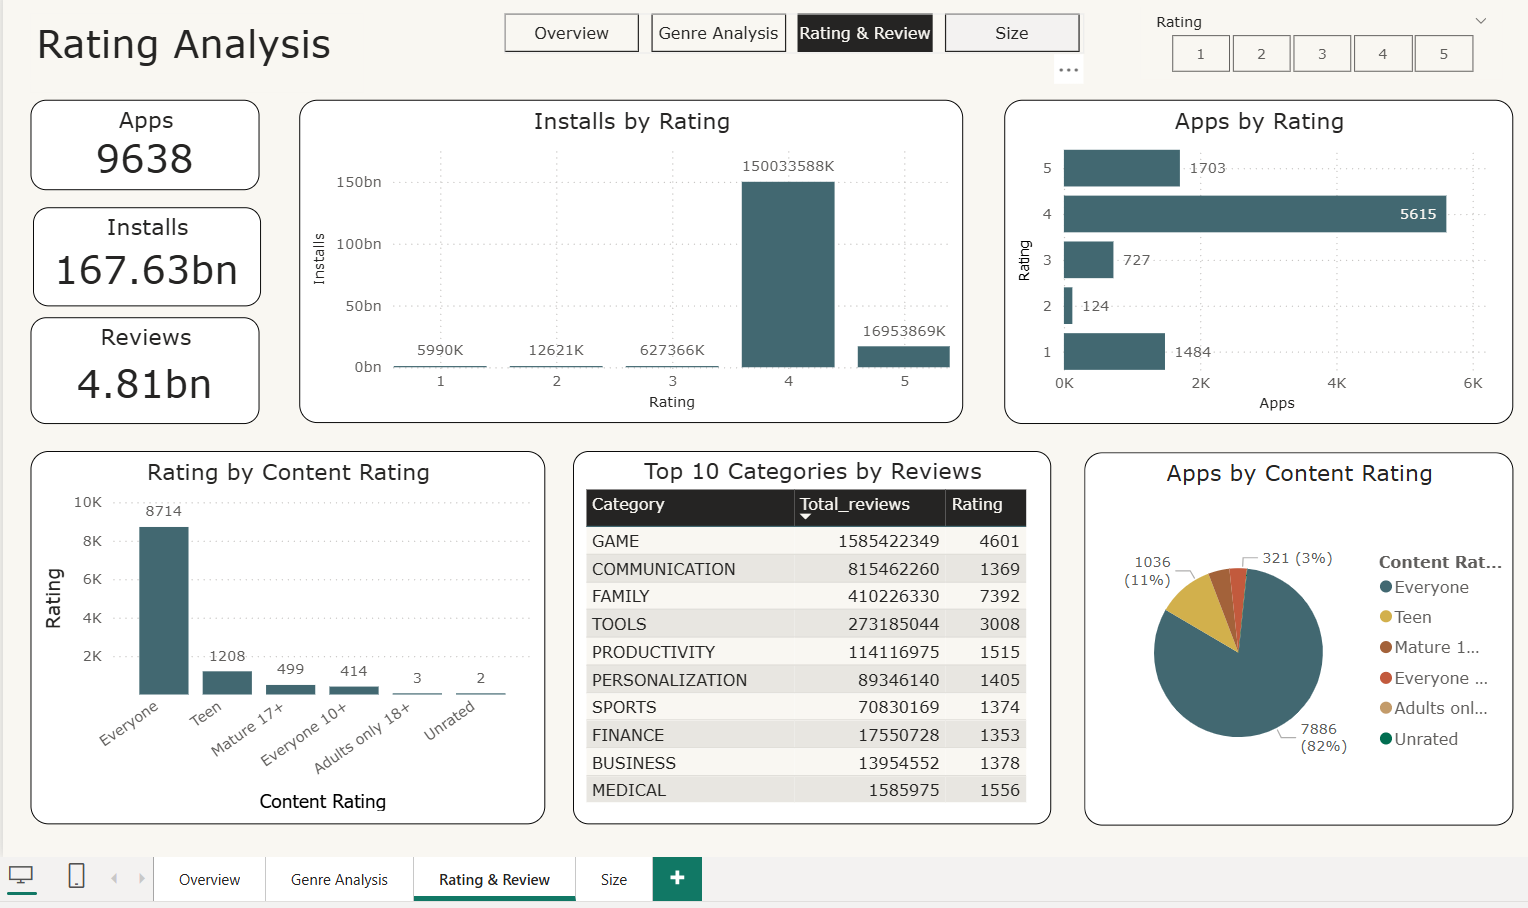

What the dashboard file says about the page in this screenshot:
{"tool":"powerbi","page":{"name":"Rating & Review","canvas":[1280,720],"ordinal":2},"visuals":[{"type":"card","title":"Apps","fields":{"Values":["Measure Analysis.Apps"]},"box":[23.3,90.6,190.7,75.5],"z":0},{"type":"card","title":"Reviews","fields":{"Values":["Measure Analysis.Total_reviews"]},"box":[23.3,271.7,190.7,89.2],"z":1000},{"type":"columnChart","fields":{"Y":["Measure Analysis.Total_installs"],"Category":["Google_playStore.New_Rating"]},"box":[246.5,90.7,552.3,268.6],"z":2000},{"type":"pieChart","fields":{"Category":["Google_playStore.Content Rating"],"Y":["Measure Analysis.Apps"]},"box":[898.8,383.7,357,310.5],"z":3000},{"type":"barChart","fields":{"Category":["Google_playStore.New_Rating"],"Y":["Measure Analysis.Apps"]},"box":[832.6,90.7,423.3,269.8],"z":4000},{"type":"tableEx","title":"Top 10 Categories by Reviews","fields":{"Values":["Google_playStore.Category","Measure Analysis.Total_reviews","Sum(Google_playStore.New_Rating)"]},"box":[474.4,382.6,397.7,310.5],"z":5000},{"type":"columnChart","fields":{"Category":["Google_playStore.Content Rating"],"Y":["CountNonNull(Google_playStore.New_Rating)"]},"box":[23.3,382.6,427.9,310.5],"z":6000},{"type":"slicer","fields":{"Values":["Google_playStore.New_Rating"]},"box":[945.5,13.7,300.5,60.4],"z":7000},{"type":"textbox","box":[23.3,19.2,277.2,65.9],"z":8000},{"type":"card","title":"Installs","fields":{"Values":["Measure Analysis.Total_installs"]},"box":[24.7,179.8,189.4,82.3],"z":9000},{"type":"pageNavigator","box":[417.2,19.2,481.6,32.9],"z":10000}]}

Visuals, with their boxes on the page's 1280x720 design canvas (x1, y1, x2, y2). These are canvas units, not pixel positions in the 1528x908 screenshot, which may show the page scaled, cropped or inside an application window:
"Apps" card: (23,91,214,166)
"Reviews" card: (23,272,214,361)
columnChart - Measure Analysis.Total_installs x Google_playStore.New_Rating: (246,91,799,359)
pieChart - Google_playStore.Content Rating x Measure Analysis.Apps: (899,384,1256,694)
barChart - Google_playStore.New_Rating x Measure Analysis.Apps: (833,91,1256,360)
"Top 10 Categories by Reviews" tableEx: (474,383,872,693)
columnChart - Google_playStore.Content Rating x CountNonNull(Google_playStore.New_Rating): (23,383,451,693)
slicer - Google_playStore.New_Rating: (946,14,1246,74)
textbox: (23,19,300,85)
"Installs" card: (25,180,214,262)
pageNavigator: (417,19,899,52)
